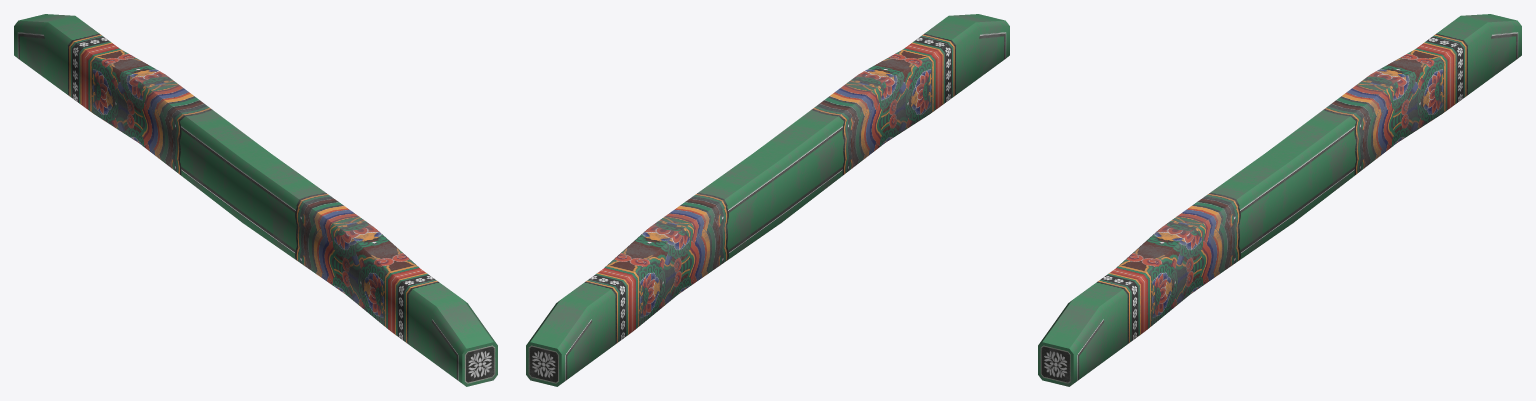
Rendered from SM_Daedeulbo01c.fbx.
3 views of the same model, side by side, from view 1: azimuth 30°, elevation 25°; view 2: azimuth 150°, elevation 25°; view 3: azimuth 330°, elevation 25° (orthographic).
Visible parts, largest first — view 1: SM_Daedeulbo01c; view 2: SM_Daedeulbo01c; view 3: SM_Daedeulbo01c.
Part boxes in pixels (x1=…): SM_Daedeulbo01c: x1=14, y1=14, x2=497, y2=386; SM_Daedeulbo01c: x1=526, y1=14, x2=1009, y2=386; SM_Daedeulbo01c: x1=1038, y1=14, x2=1521, y2=386.
Size of the model in its own units: 26.88 by 587 by 47.6.
1 material, 1 textured.
